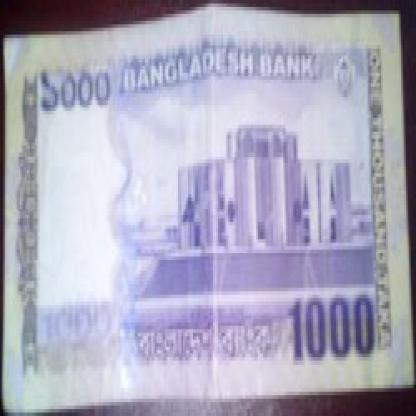One Thousand taka: (286, 291, 380, 364), (37, 66, 113, 111)
